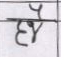ai_matra: (29, 3, 46, 19)
